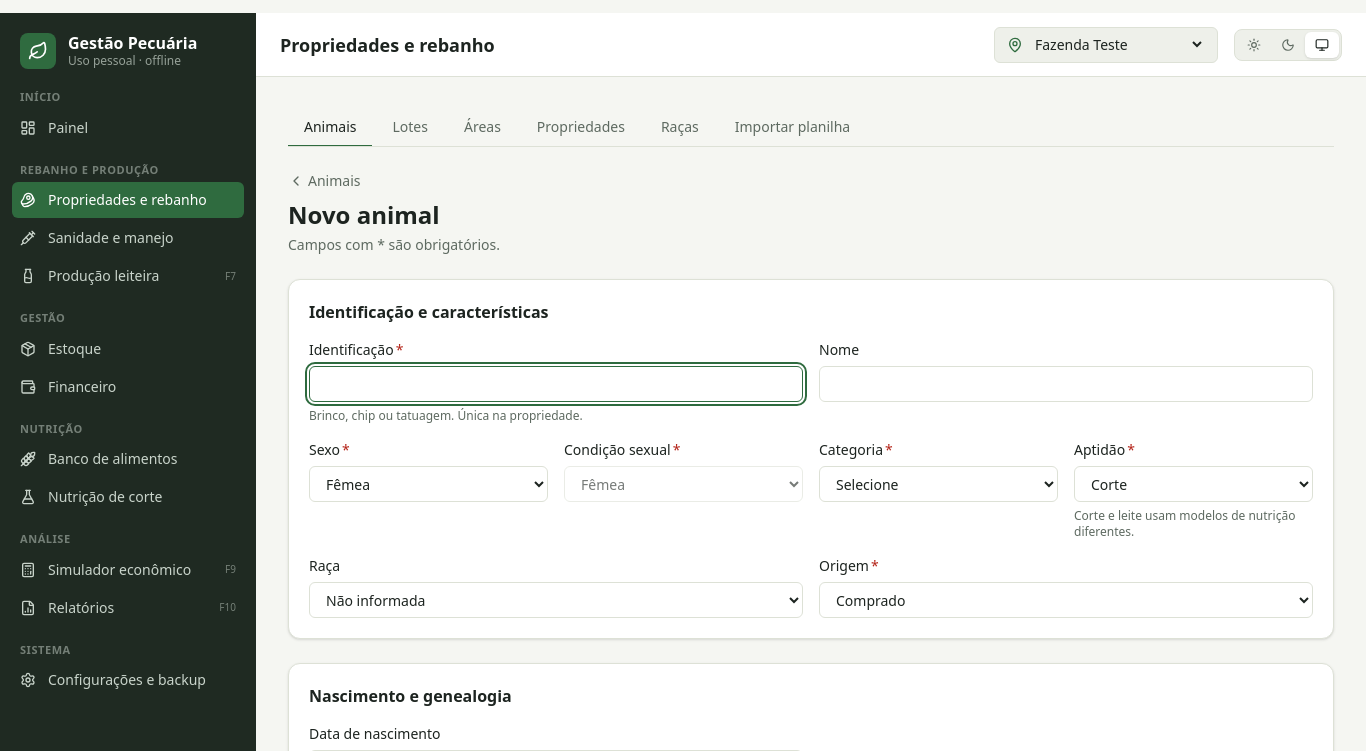
Test: telas do rebanho › peso ambíguo como "1.050" é recusado no formulário
The image size is (1366, 751).
(page scrolled)
Type "X" into the field labelled "Identificação*". click: (556, 384)
box: [309,366,803,402]
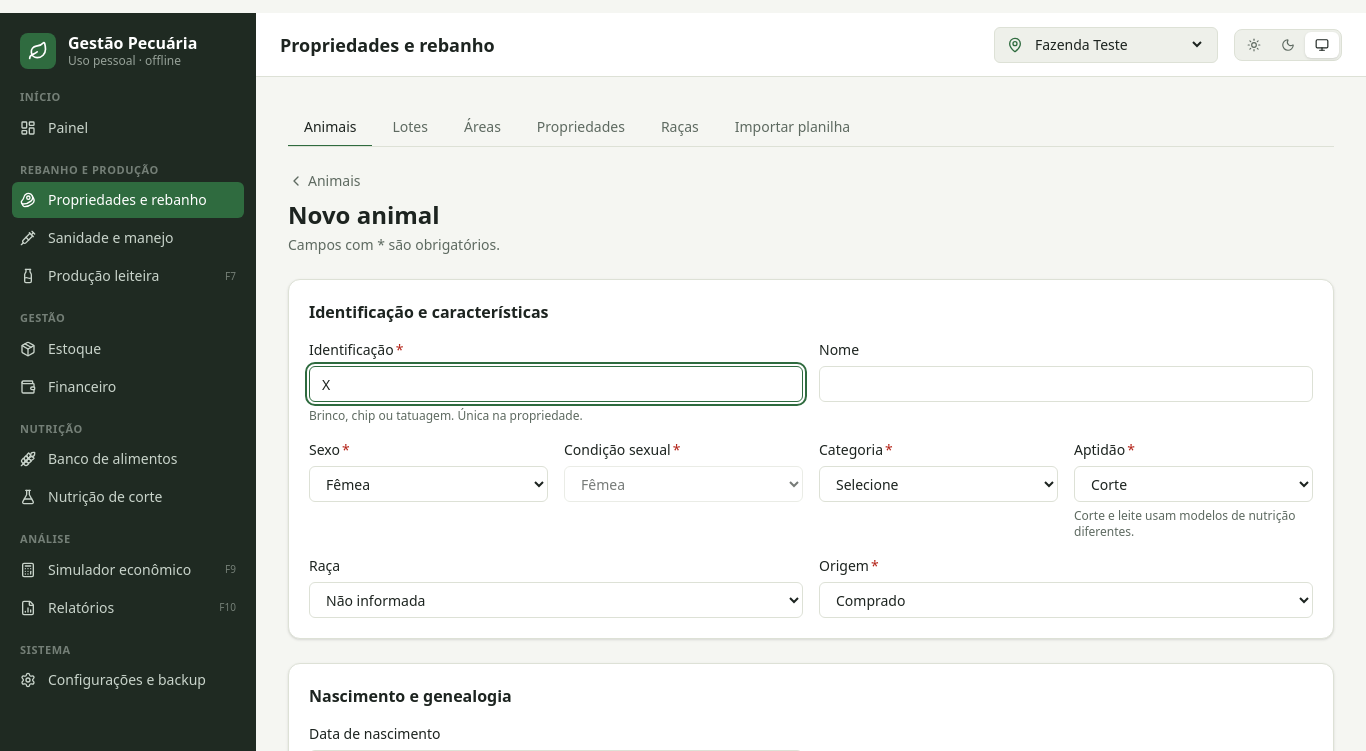
Select "Vaca" in the dropdown labelled "Categoria*". click: (938, 484)
box: [819,466,1058,502]
(page scrolled)
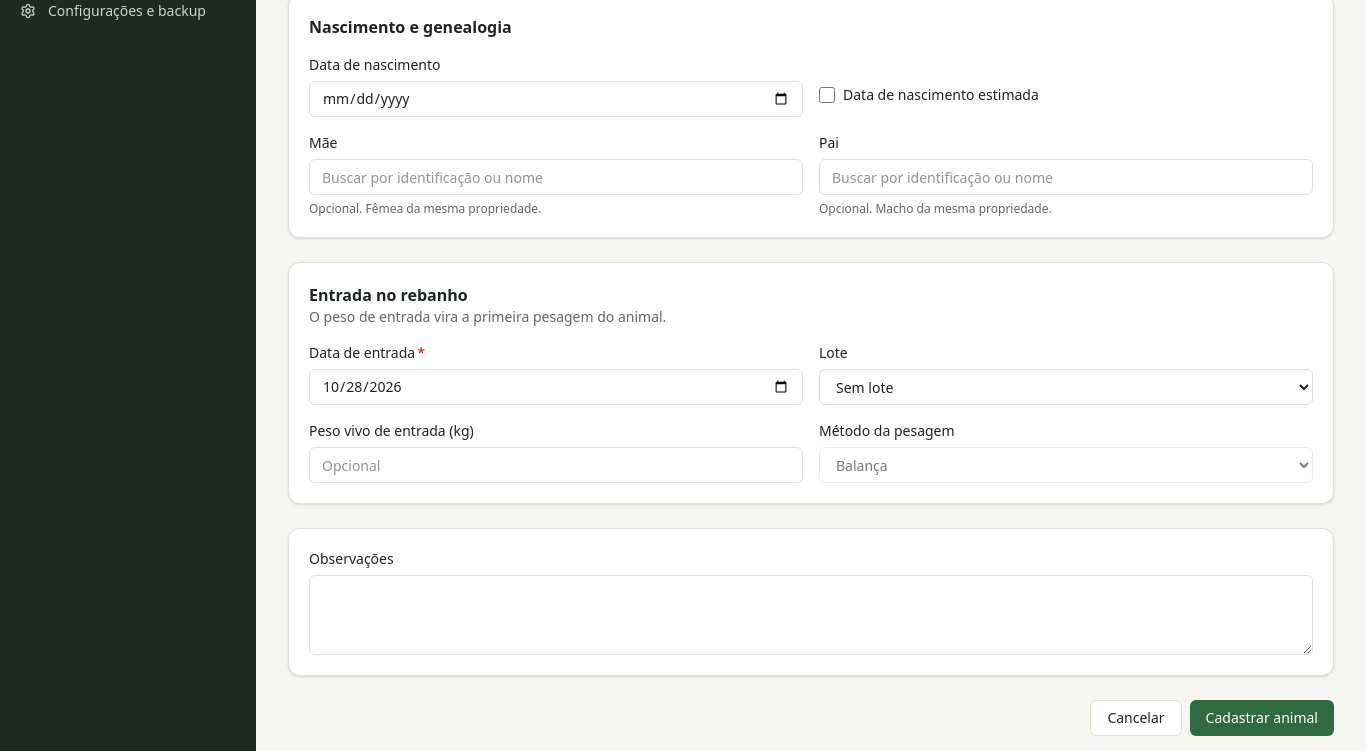
Type "1.050" into the field labelled "Peso vivo de entrada (kg)". click: (556, 465)
box: [309,447,803,483]
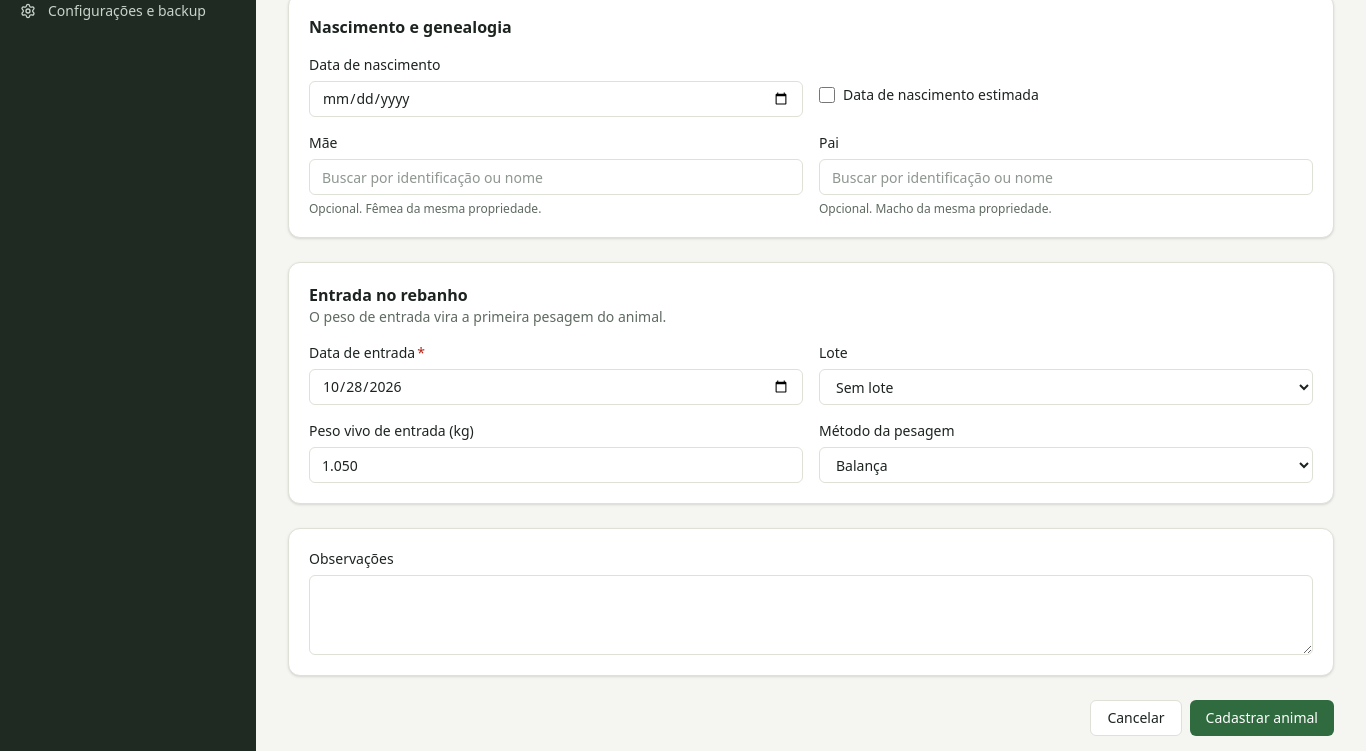
Click the button "Cadastrar animal". click: click(1262, 718)
box: [1190,700,1334,736]
(page scrolled)
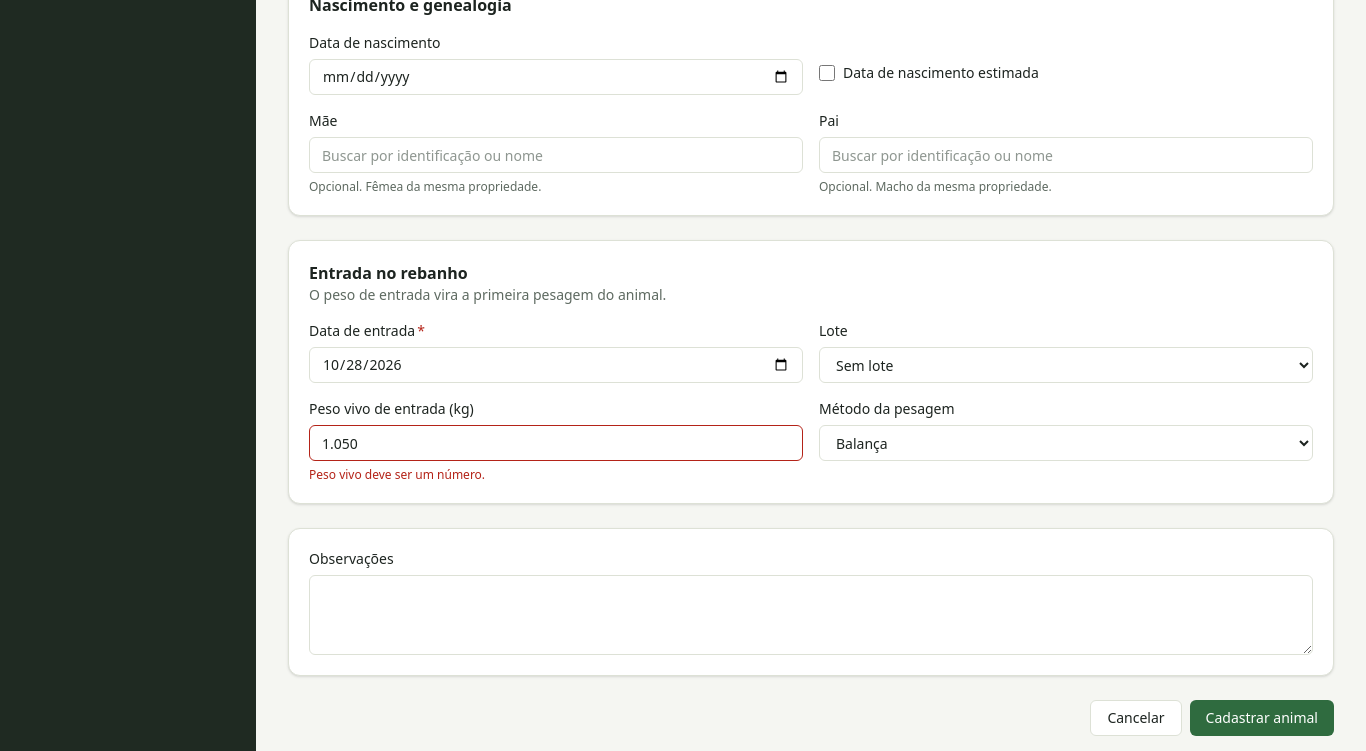
Expected: the text "Peso vivo deve ser um número." is shown, [309,466,485,483]
